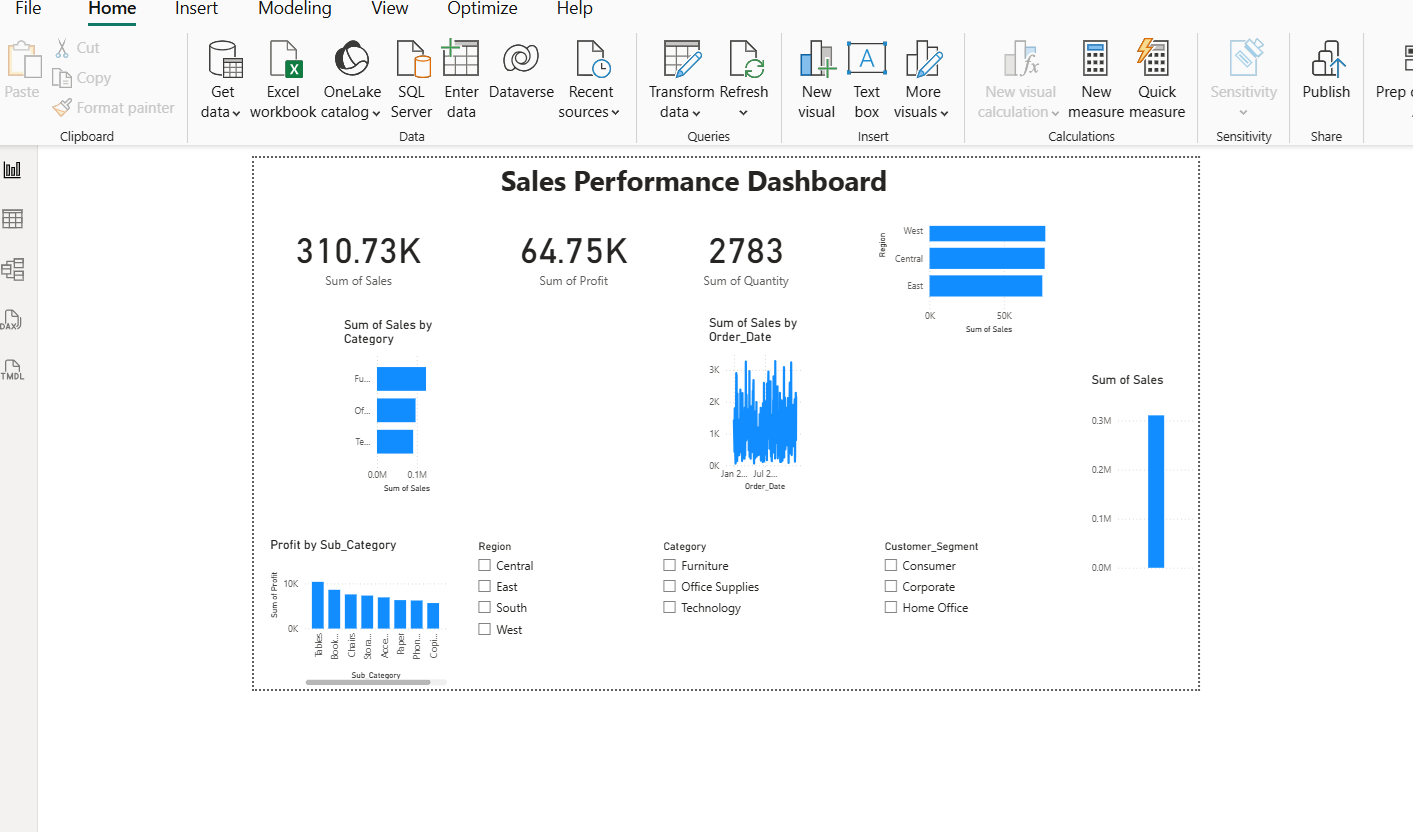

Layout of this report page (visuals, bound fields, positions):
{"tool":"powerbi","page":{"name":"Page 1","canvas":[1280,720],"ordinal":0},"visuals":[{"type":"clusteredColumnChart","fields":{"Y":["Sum(sales_data.Sales)"]},"box":[1130,290,150,280],"z":0},{"type":"card","title":"Total Sales","fields":{"Values":["Sum(sales_data.Sales)"]},"box":[16.7,0,250,243.3],"z":1000},{"type":"card","title":"Total Profit","fields":{"Values":["Sum(sales_data.Profit)"]},"box":[308.3,0,250,243.3],"z":2000},{"type":"card","title":"Total Quantity","fields":{"Values":["Sum(sales_data.Quantity)"]},"box":[541.7,0,250,243.3],"z":3000},{"type":"clusteredBarChart","title":"Sales by Region","fields":{"Category":["sales_data.Region"],"Y":["Sum(sales_data.Sales)"]},"box":[842,0,250,243],"z":4000},{"type":"lineChart","fields":{"Y":["Sum(sales_data.Sales)"],"Category":["sales_data.Order_Date"]},"box":[611.4,214,150.4,243.3],"z":5000},{"type":"clusteredColumnChart","title":"Profit by Sub_Category","fields":{"Category":["sales_data.Sub_Category"],"Y":["Sum(sales_data.Profit)"]},"box":[17,513.5,250,206.5],"z":6000},{"type":"slicer","fields":{"Values":["sales_data.Region"]},"box":[292,514,250,206],"z":7000},{"type":"slicer","fields":{"Values":["sales_data.Category"]},"box":[541.7,513.3,250,206.7],"z":8000},{"type":"slicer","fields":{"Values":["sales_data.Customer_Segment"]},"box":[841.7,513.3,250,206.7],"z":9000},{"type":"clusteredBarChart","fields":{"Category":["sales_data.Category"],"Y":["Sum(sales_data.Sales)"]},"box":[116.7,215,150,243.3],"z":9001},{"type":"textbox","box":[292,243,250,215],"z":9002},{"type":"textbox","box":[1130,0,150,243],"z":9003},{"type":"textbox","box":[81.7,0,1030,91.7],"z":9004}]}

Visuals, with their boxes on the page's 1280x720 design canvas (x1, y1, x2, y2). These are canvas units, not pixel positions in the 1413x832 screenshot, which may show the page scaled, cropped or inside an application window:
clusteredColumnChart - Sum(sales_data.Sales): 1130 290 1280 570
"Total Sales" card: 17 0 267 243
"Total Profit" card: 308 0 558 243
"Total Quantity" card: 542 0 792 243
"Sales by Region" clusteredBarChart: 842 0 1092 243
lineChart - Sum(sales_data.Sales) x sales_data.Order_Date: 611 214 762 457
"Profit by Sub_Category" clusteredColumnChart: 17 514 267 720
slicer - sales_data.Region: 292 514 542 720
slicer - sales_data.Category: 542 513 792 720
slicer - sales_data.Customer_Segment: 842 513 1092 720
clusteredBarChart - sales_data.Category x Sum(sales_data.Sales): 117 215 267 458
textbox: 292 243 542 458
textbox: 1130 0 1280 243
textbox: 82 0 1112 92
